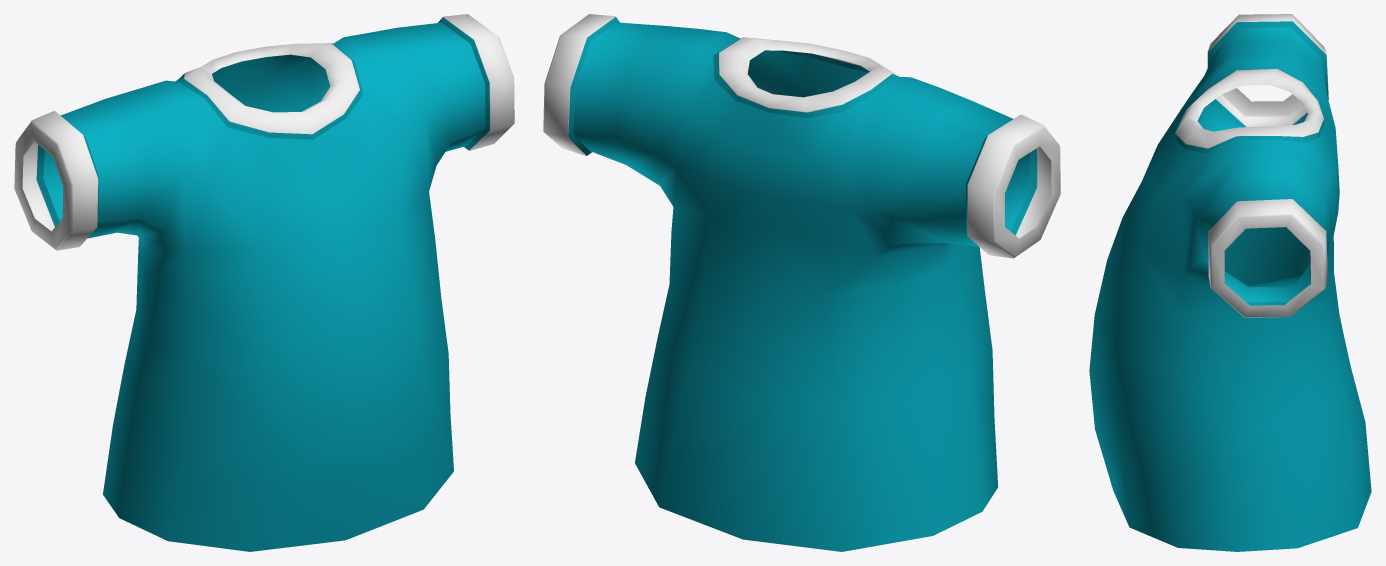
The model's file is Outerwear_Light_Blue_015.glb.
3 renders of one model, left to right at view 1: azimuth 30°, elevation 25°; view 2: azimuth 150°, elevation 25°; view 3: azimuth 270°, elevation 25°, orthographic. The views are drawn at different scales.
Visible parts, largest first — view 1: Outerwear_Light_Blue_015; view 2: Outerwear_Light_Blue_015; view 3: Outerwear_Light_Blue_015.
Boxes of the visible parts, x1=… form: Outerwear_Light_Blue_015: x1=14, y1=14, x2=514, y2=551; Outerwear_Light_Blue_015: x1=543, y1=14, x2=1060, y2=551; Outerwear_Light_Blue_015: x1=1089, y1=14, x2=1371, y2=551.
Size of the model in its own units: 0.6902 by 0.6213 by 0.4059.
1 material, 1 textured.
